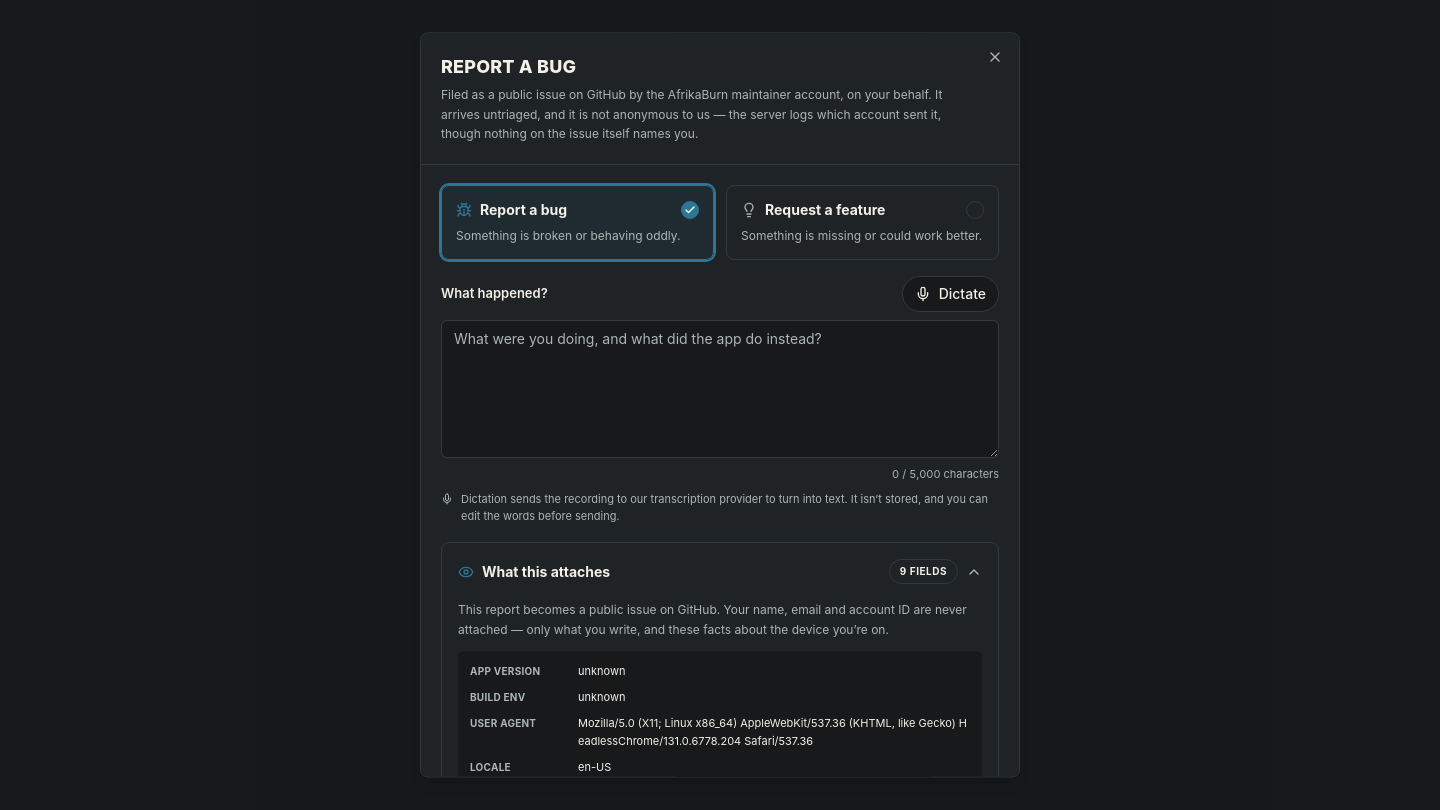
ReportDialog › shows the issue number and a link once filed
This screenshot has width=1440, height=810.
Type "It loops." into the text box labelled "What happened?".
click(720, 389); type("It loops.")  # box [441,320,999,458]
(page scrolled)
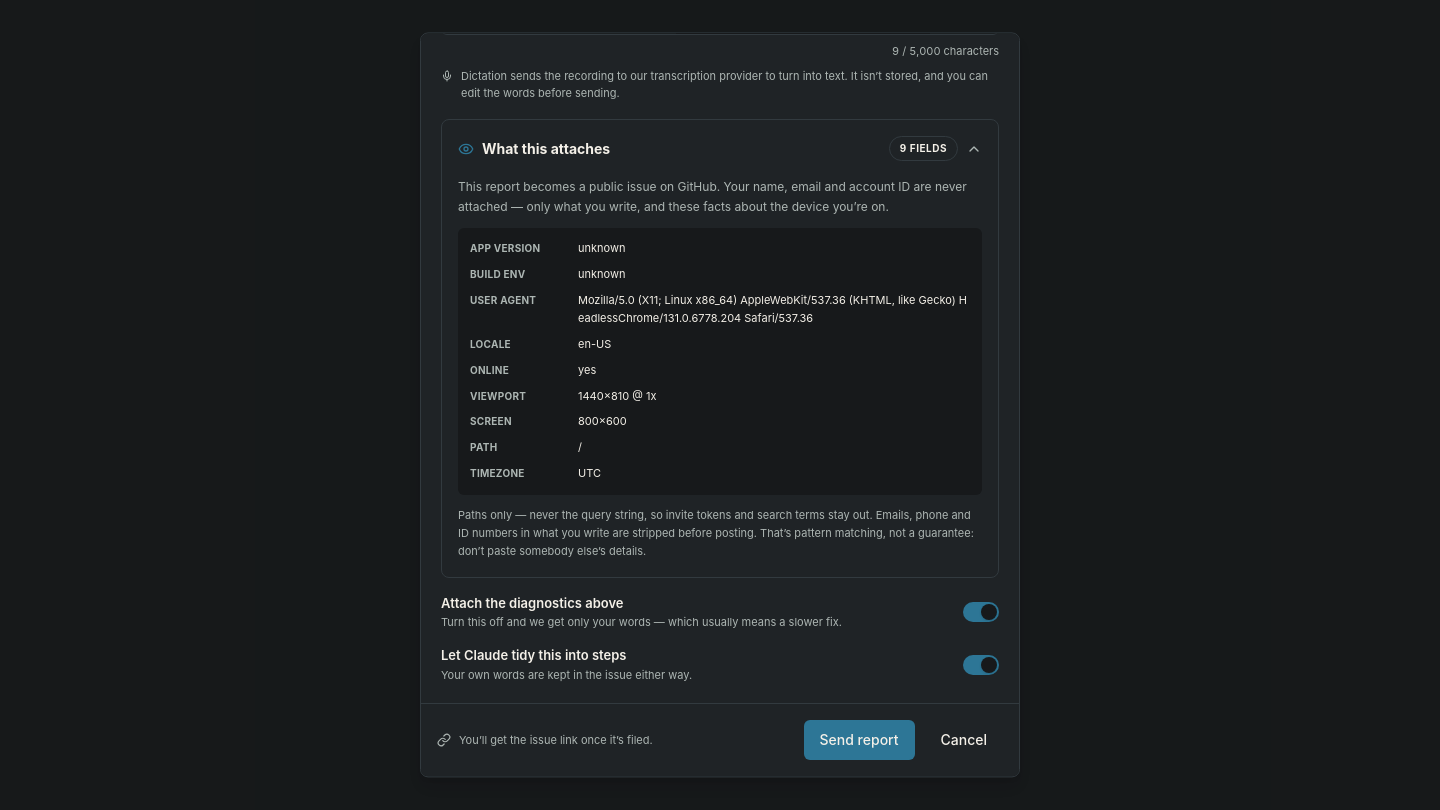
Click the button "Send report".
click(859, 740)  # box [804,720,914,760]
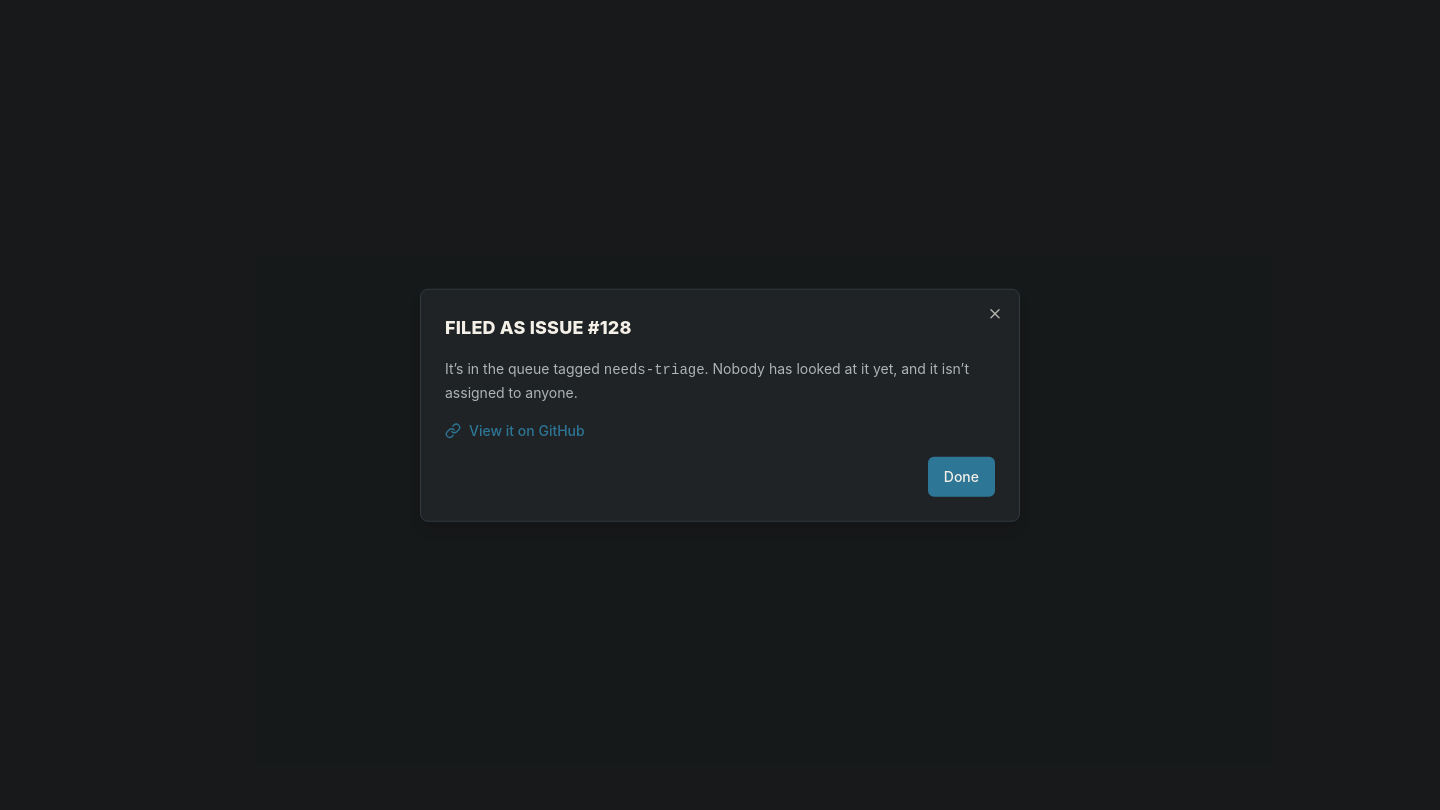
Now the heading "Filed as issue #128" is shown, box [445,317,632,338]
